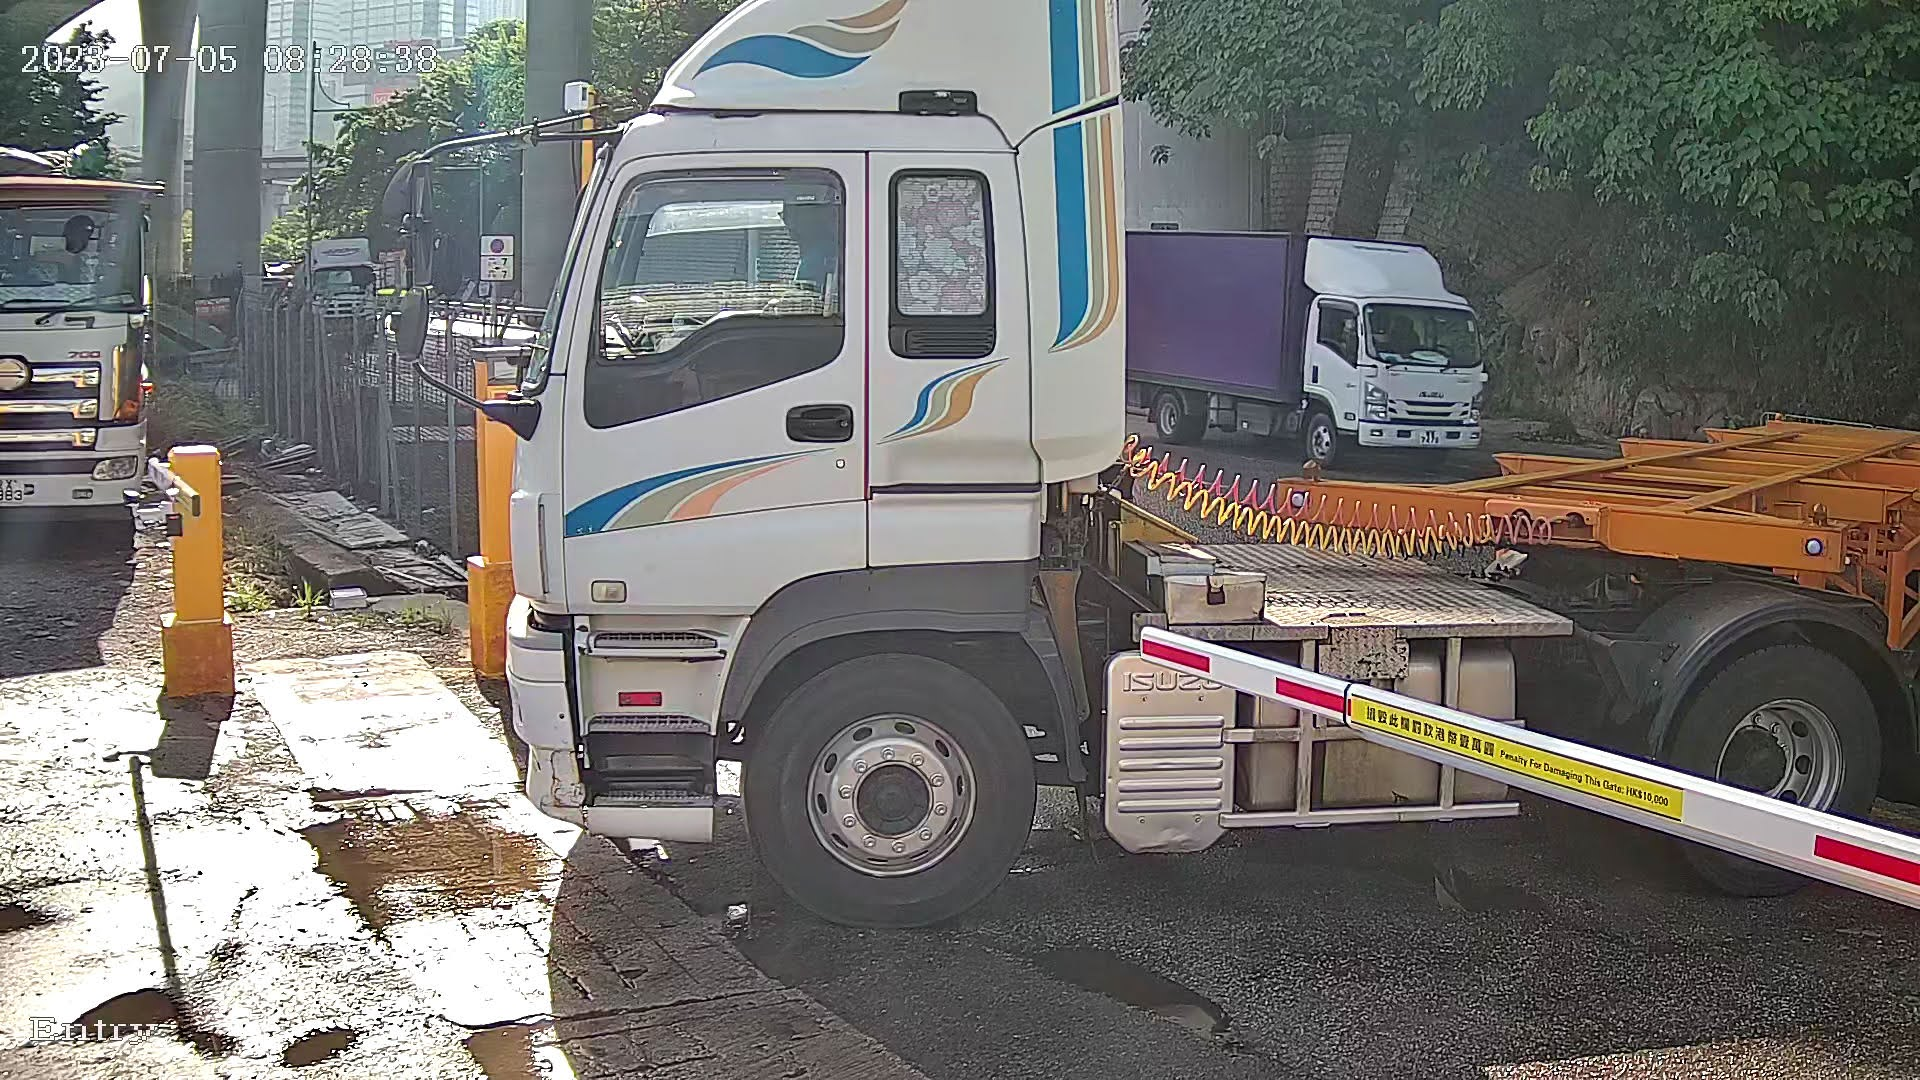tractor: (463, 1, 1907, 948)
